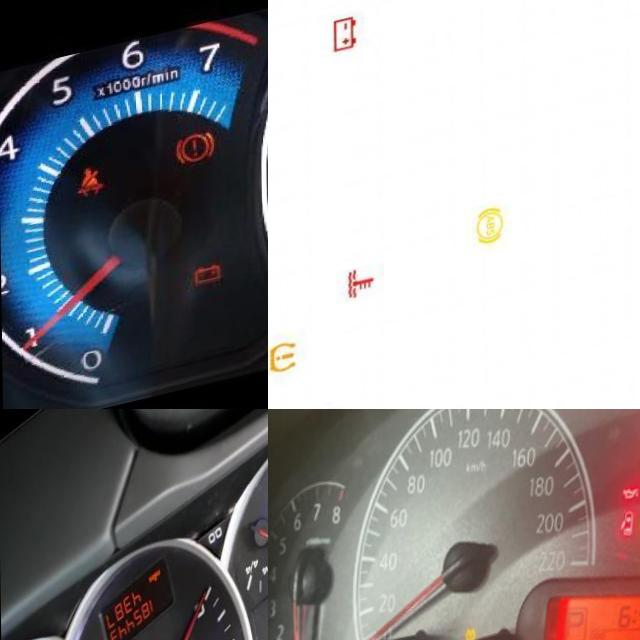Seat Belt: (73, 167, 103, 203)
